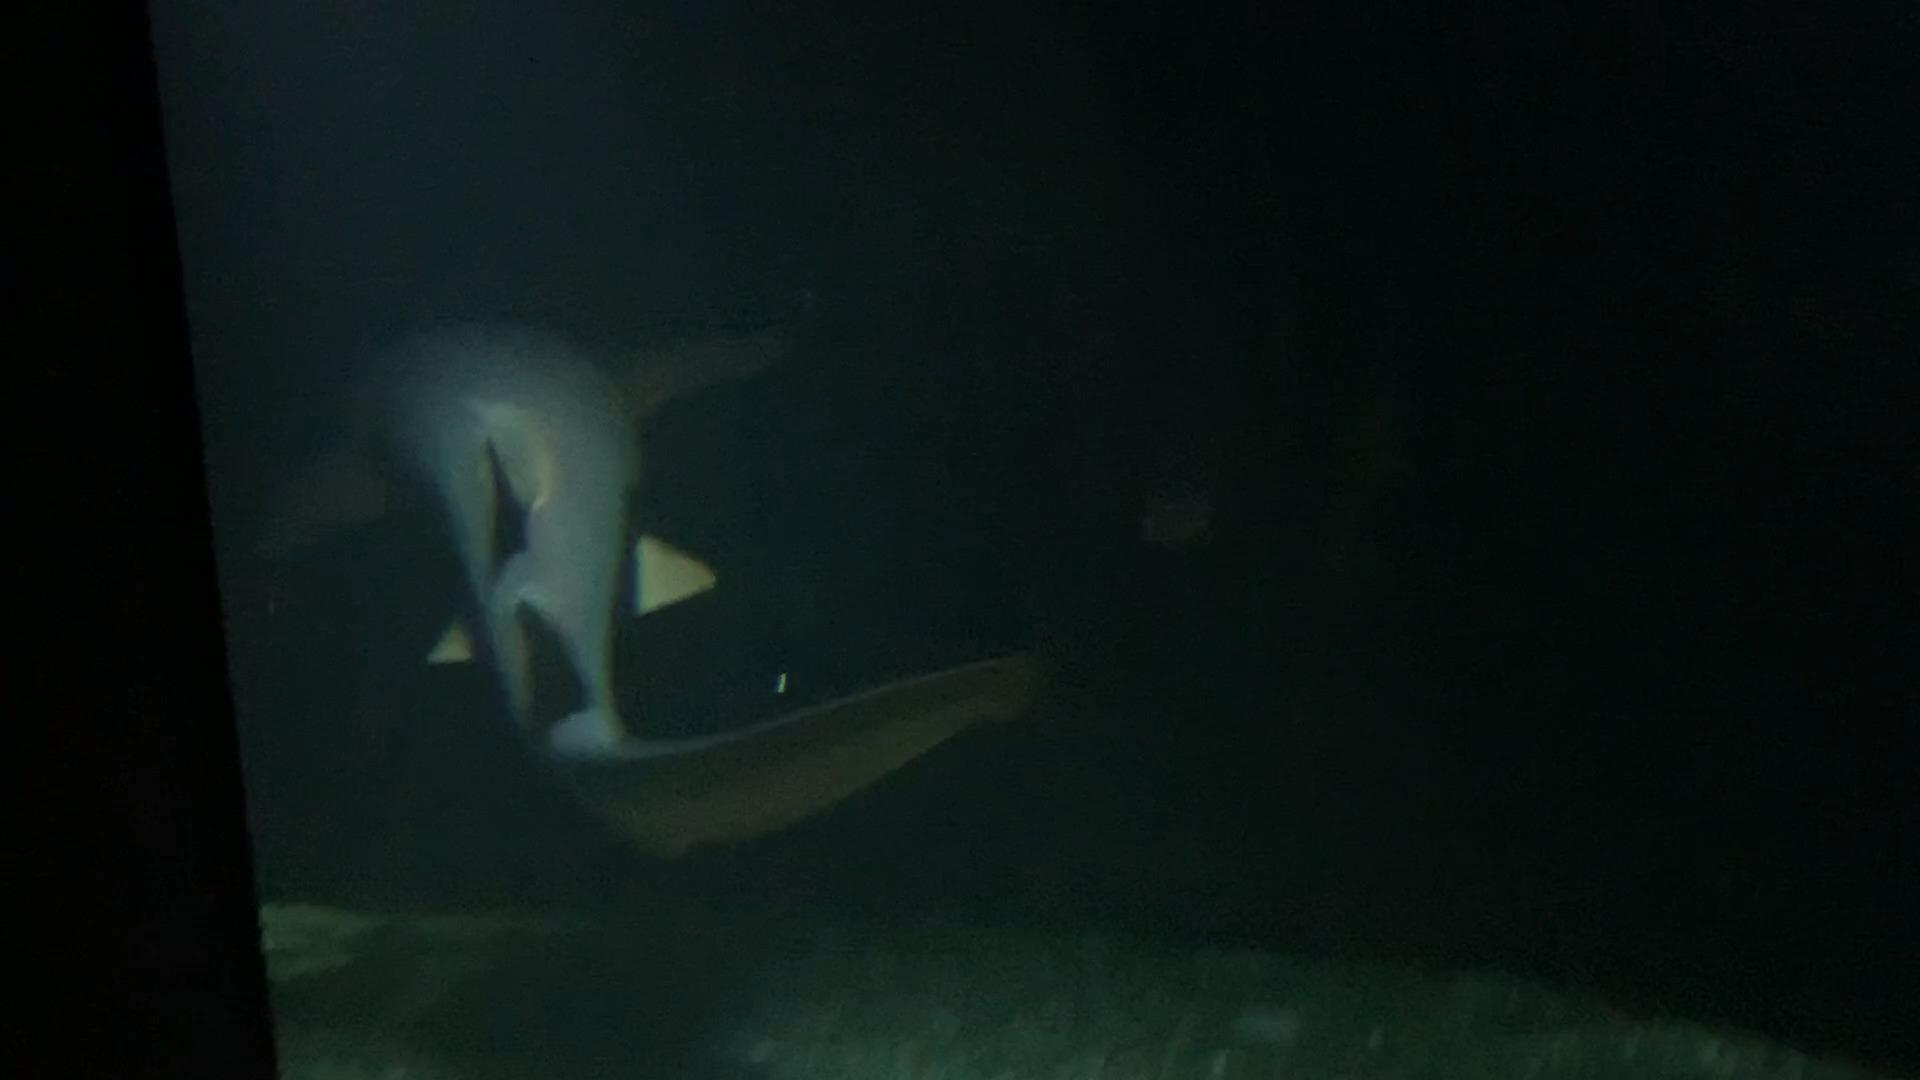shark: (237, 303, 1047, 866)
